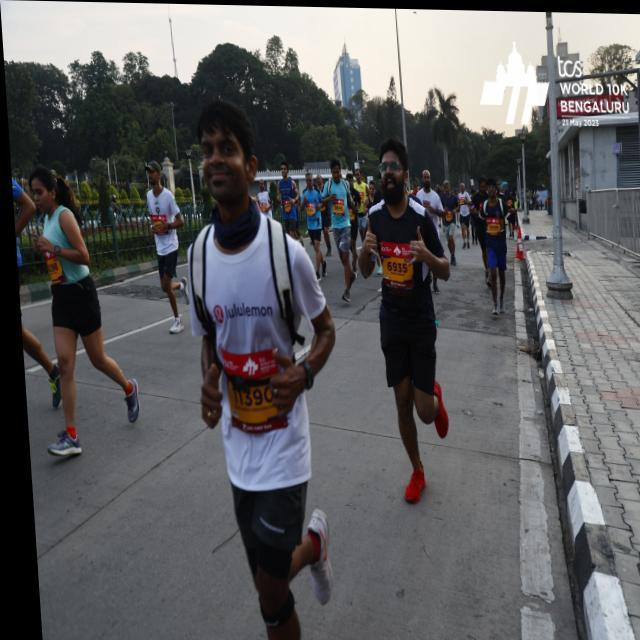dorsal: (213, 342, 284, 433), (376, 235, 418, 286)
